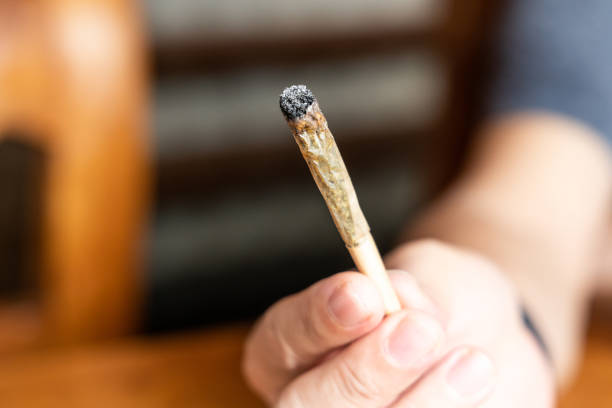cigarette: (276, 81, 397, 315)
